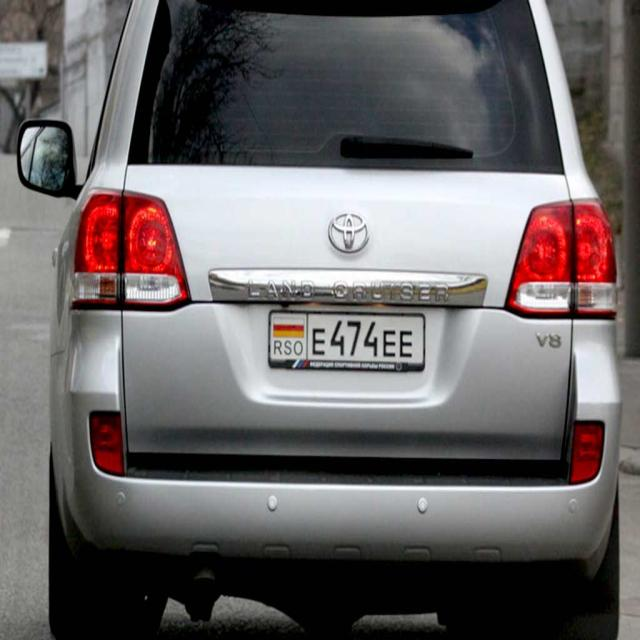number-plates: (266, 311, 426, 374)
